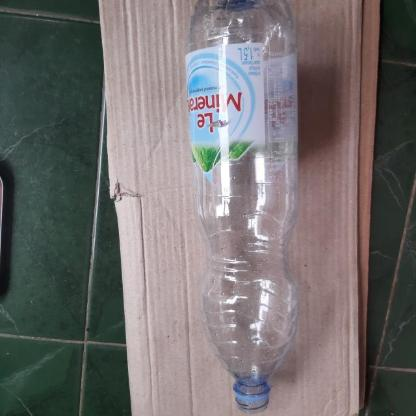Plastic Bottle: (185, 0, 299, 416)
